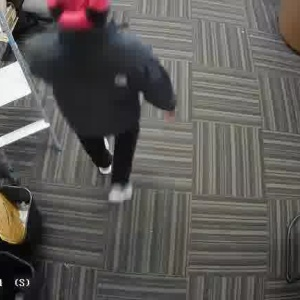person: (30, 6, 159, 203)
